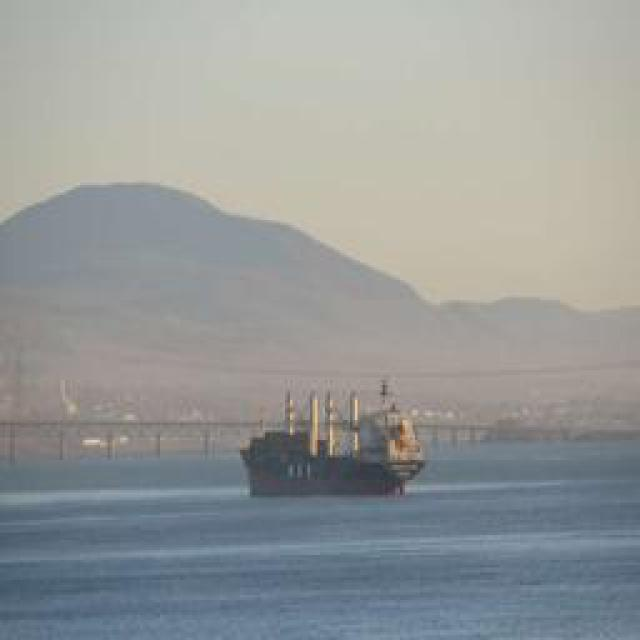Ship: (236, 380, 429, 499)
